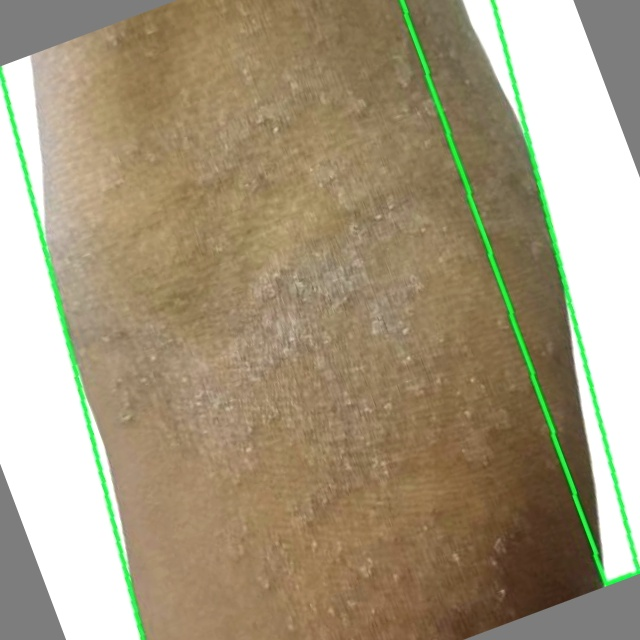Eczema: (3, 0, 634, 639), (393, 0, 639, 584)
